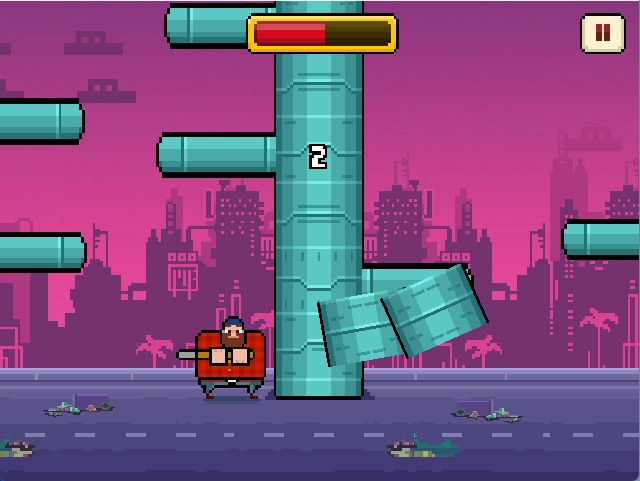left_obs: (154, 130, 278, 180)
timberman: (174, 314, 272, 408)
